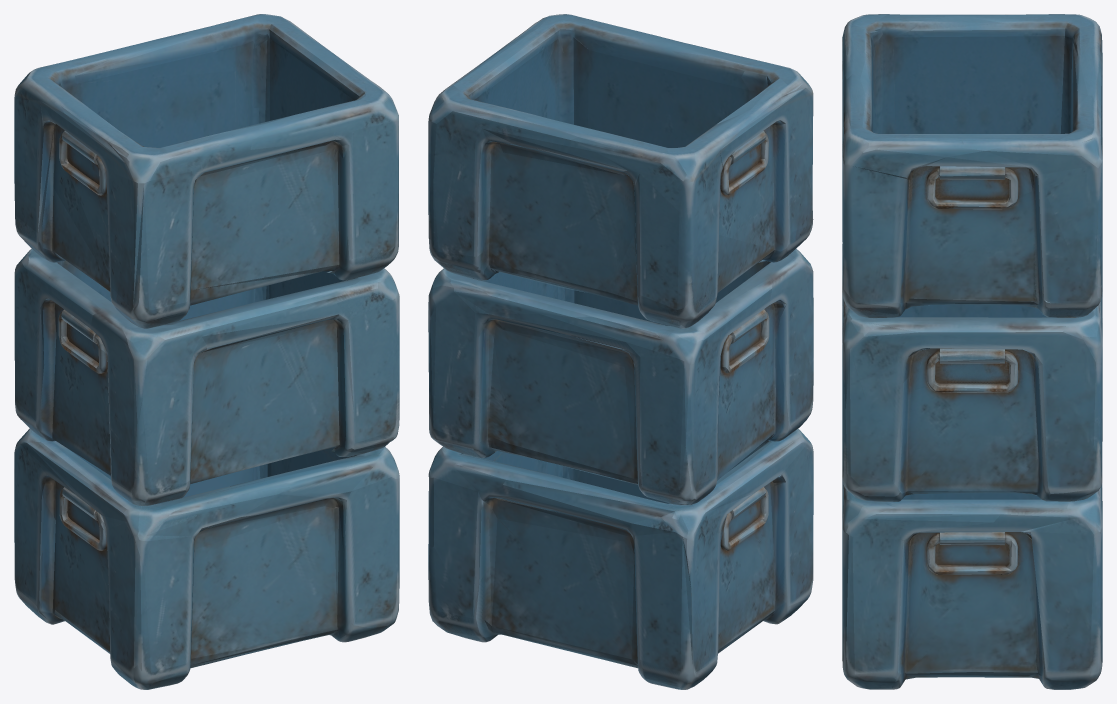
Rendered from casse_plastica.glb.
The picture shows the model from 3 angles, left to right: view 1: azimuth 30°, elevation 25°; view 2: azimuth 150°, elevation 25°; view 3: azimuth 270°, elevation 25°; orthographic projection. The views are drawn at different scales.
Visible parts, largest first — view 1: Mesh_0; view 2: Mesh_0; view 3: Mesh_0.
Boxes of the visible parts, x1,y1,x2,y2 form: Mesh_0: (14,14,399,689); Mesh_0: (428,14,813,689); Mesh_0: (842,14,1102,689).
Size of the model in its own units: 0.9826 by 1.9 by 0.8114.
1 material, 1 textured.
